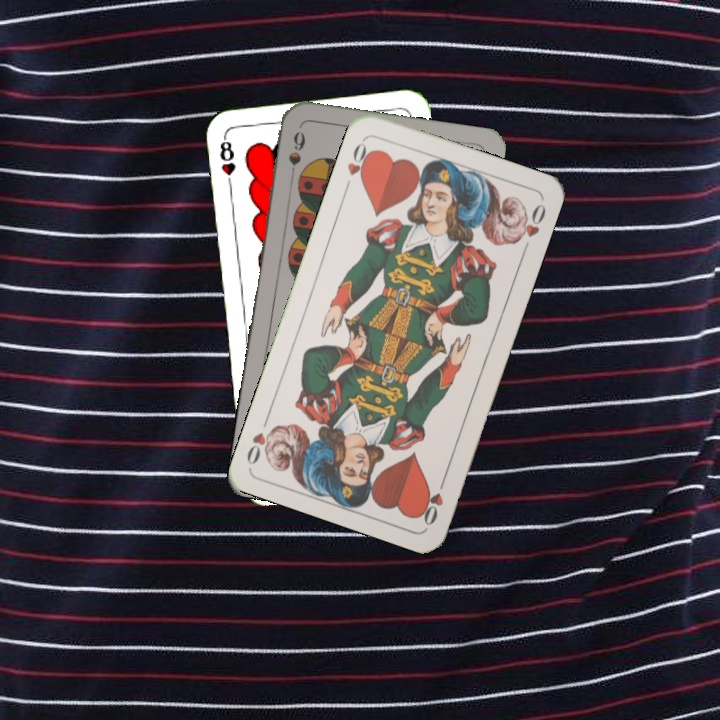H8: (215, 132, 238, 192)
HO: (341, 136, 375, 193), (416, 471, 449, 529)
S9: (284, 128, 308, 184)
